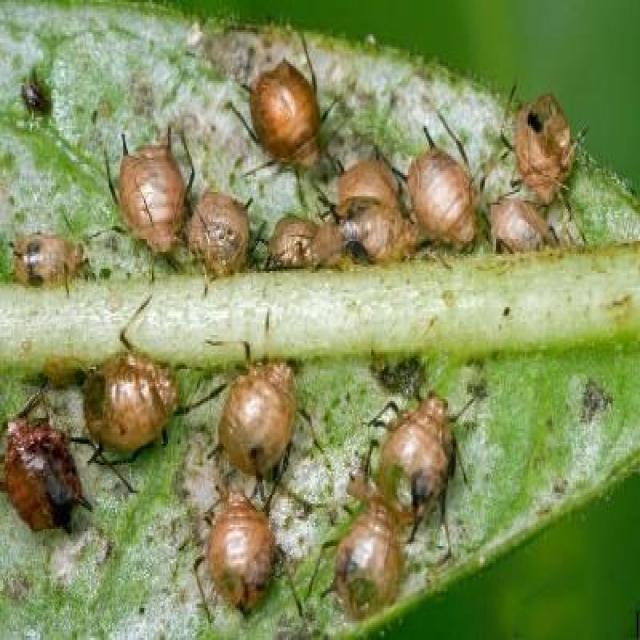Aphid-Grouped-: (26, 19, 613, 625)
Aphid-Grown-: (360, 352, 485, 532), (202, 334, 333, 497), (175, 466, 302, 626), (92, 103, 203, 269), (384, 102, 483, 265), (232, 49, 337, 184)
